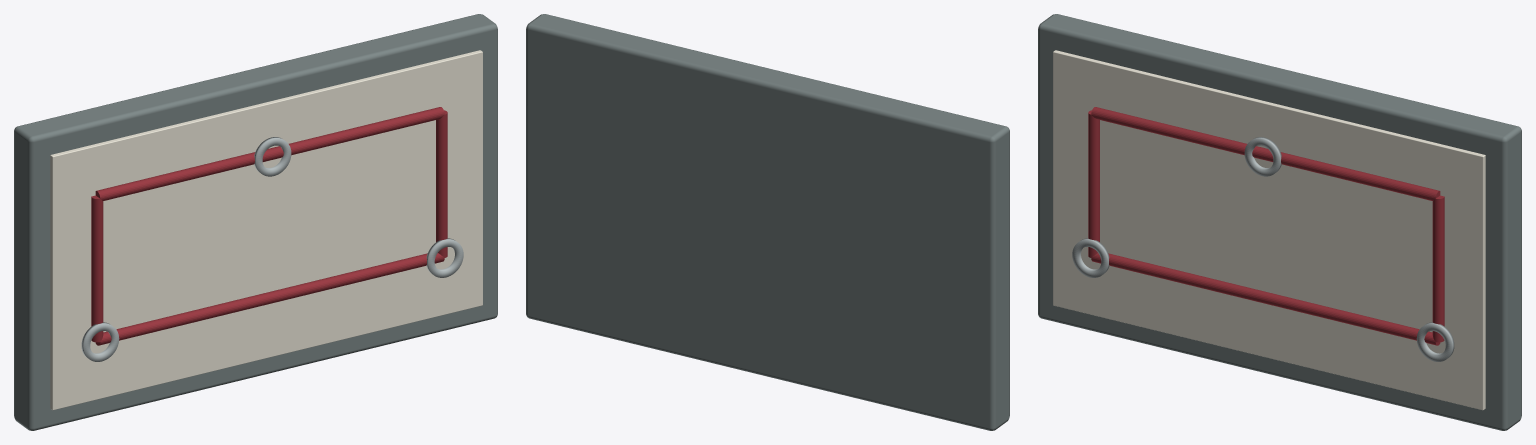
Rendered from pneumatic-tube-mail-exchange-pneumatic-tube-mail-excha-3c8138e0__32305.glb.
The picture shows the model from 3 angles, left to right: view 1: azimuth 30°, elevation 25°; view 2: azimuth 150°, elevation 25°; view 3: azimuth 330°, elevation 25°; orthographic projection.
Visible parts, largest first — view 1: pneumatic-tube-mail-exchange-route-map-lightbox; view 2: pneumatic-tube-mail-exchange-route-map-lightbox; view 3: pneumatic-tube-mail-exchange-route-map-lightbox.
Boxes of the visible parts, x1,y1,x2,y2 form: pneumatic-tube-mail-exchange-route-map-lightbox: (14,14,497,430); pneumatic-tube-mail-exchange-route-map-lightbox: (526,14,1009,430); pneumatic-tube-mail-exchange-route-map-lightbox: (1038,14,1521,430).
Size of the model in its own units: 1.2 by 0.7201 by 0.119.
